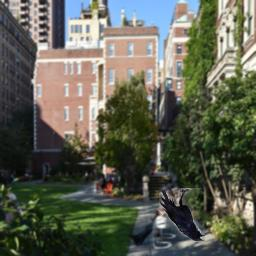Crow: (159, 188, 205, 242)
